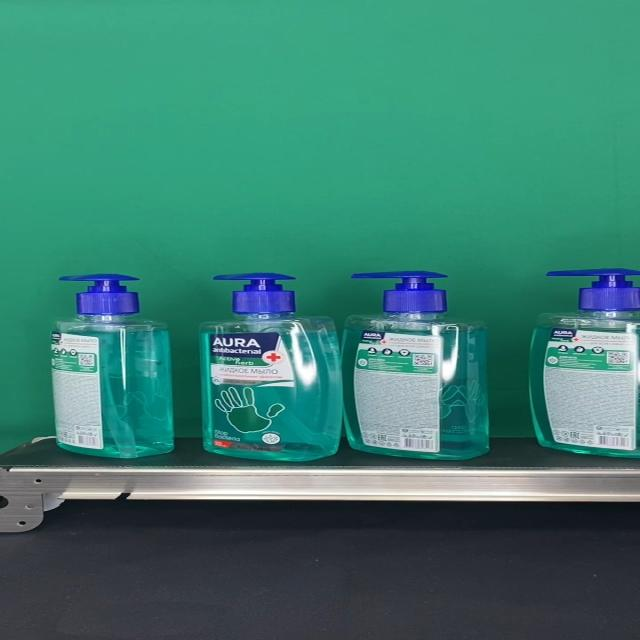Bottle: (342, 271, 489, 460), (199, 272, 342, 461), (51, 273, 174, 458)
Cap: (348, 271, 448, 313), (213, 272, 298, 314), (60, 273, 142, 314)
